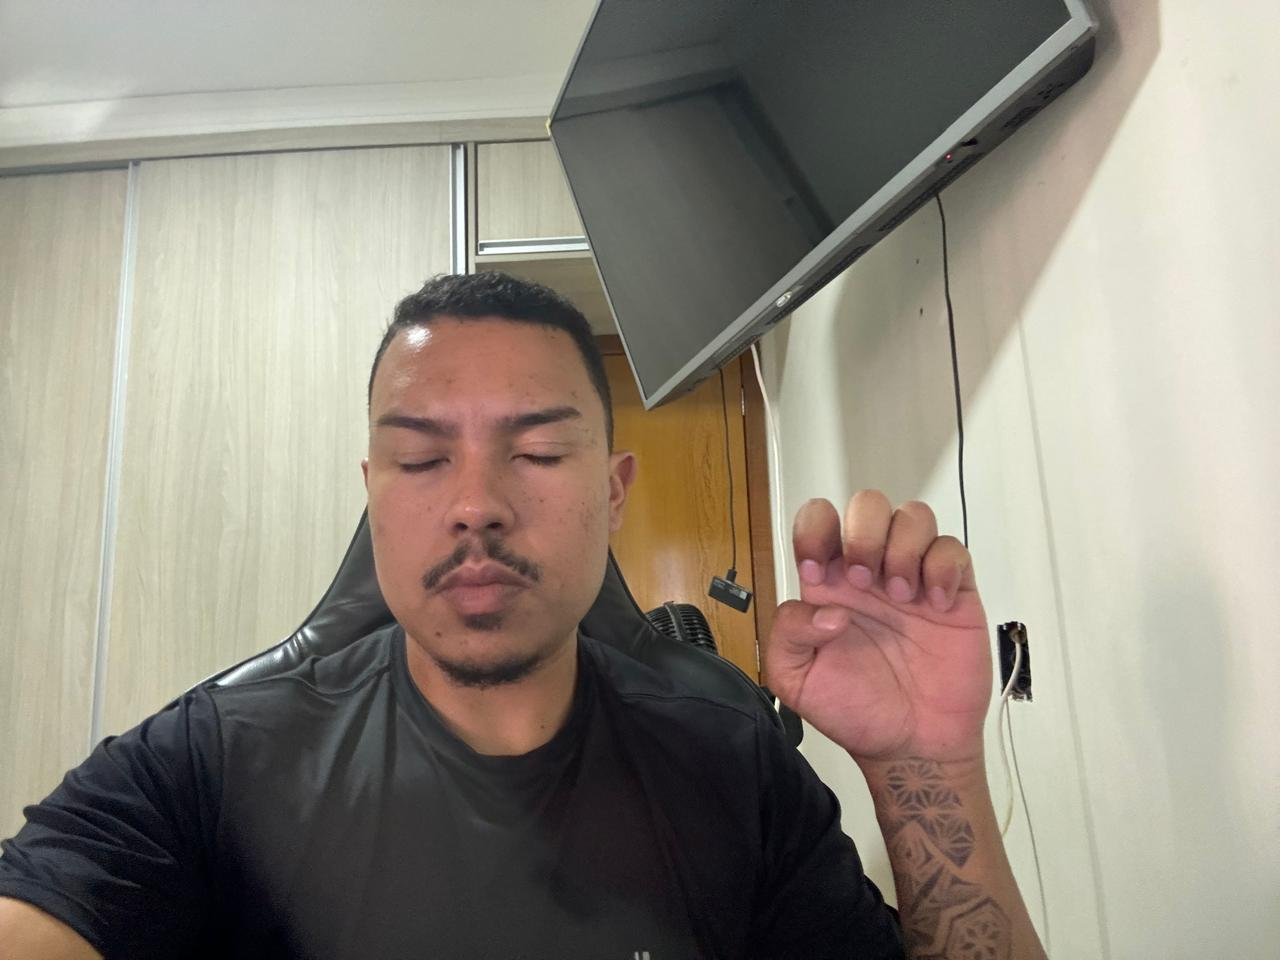e: (759, 489, 1001, 769)
